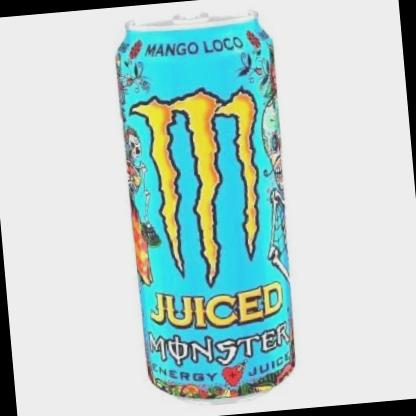alumunium_can: (108, 0, 306, 416)
